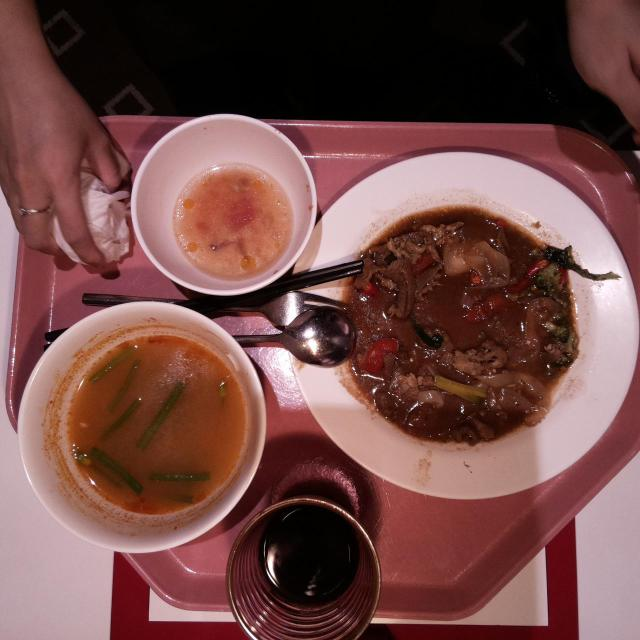Vegetable: (536, 244, 572, 292)
